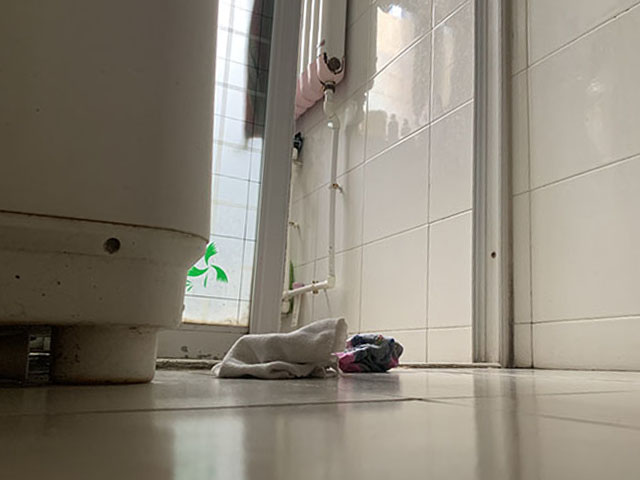socks: (208, 313, 350, 381), (335, 331, 405, 376)
